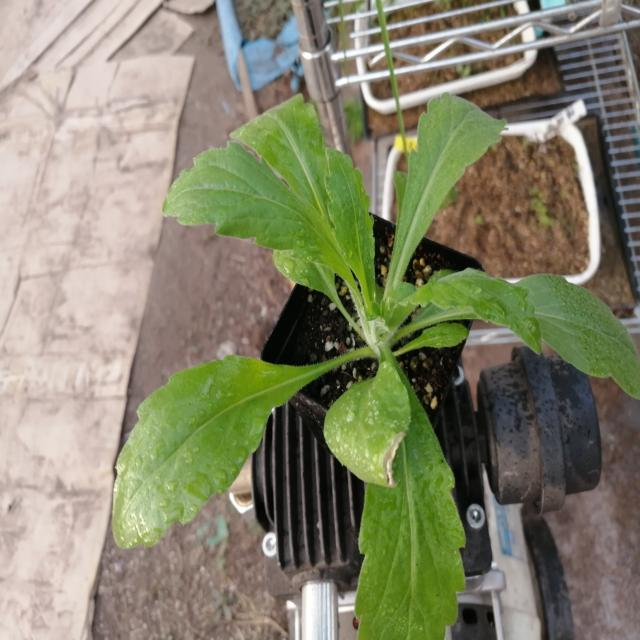horseweed: (151, 96, 594, 610)
